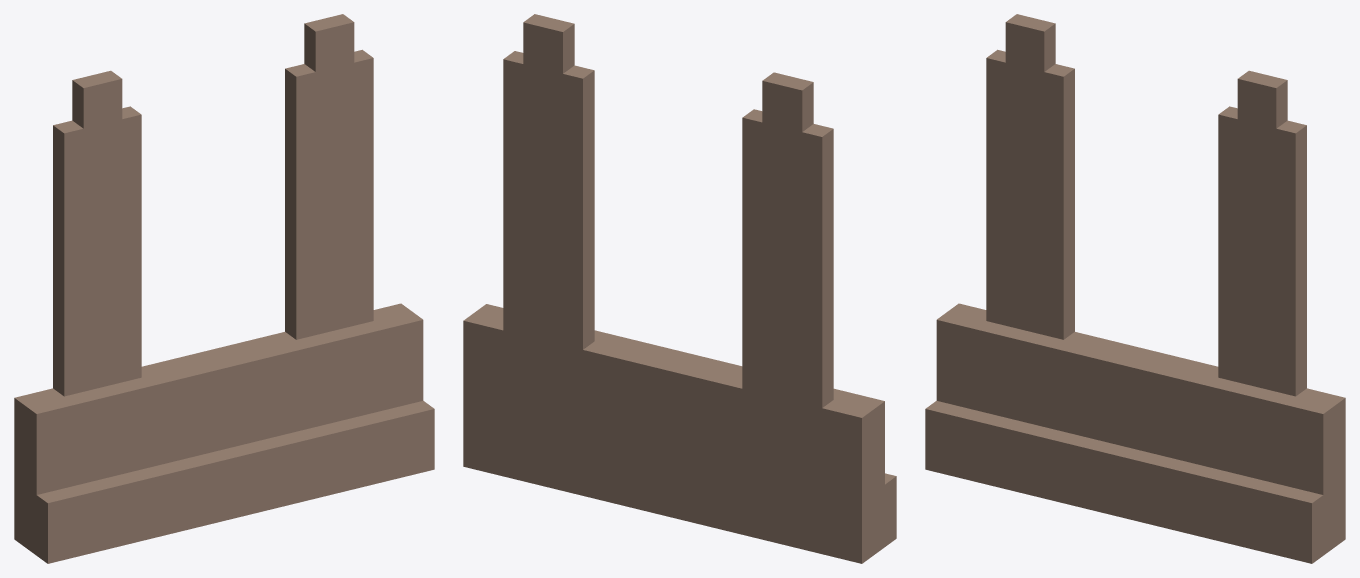
Rendered from Decoration_Small-0.fbx.
3 views of the same model, side by side, from view 1: azimuth 30°, elevation 25°; view 2: azimuth 150°, elevation 25°; view 3: azimuth 330°, elevation 25° (orthographic). The views are drawn at different scales.
Parts seen in each view (by area): view 1: Decoration_Small-0; view 2: Decoration_Small-0; view 3: Decoration_Small-0.
Boxes of the visible parts, x1=… form: Decoration_Small-0: x1=14, y1=14, x2=434, y2=563; Decoration_Small-0: x1=463, y1=14, x2=896, y2=563; Decoration_Small-0: x1=925, y1=14, x2=1345, y2=563.
Size of the model in its own units: 100 by 110 by 15.
